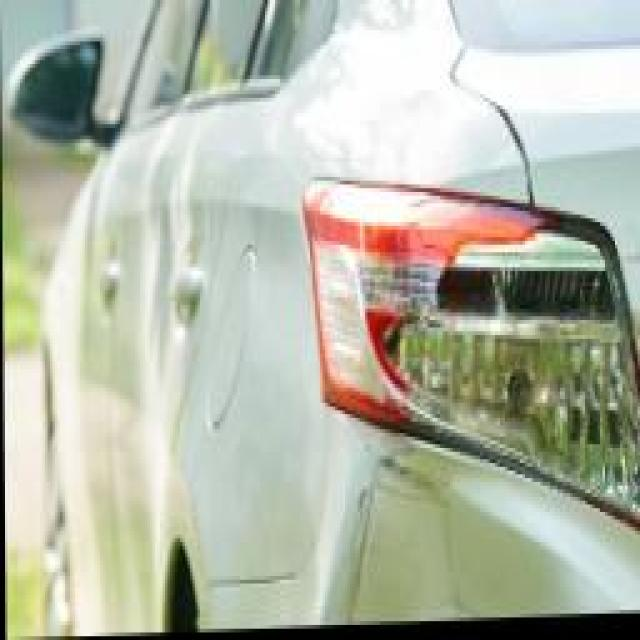Bumper: (320, 433, 489, 627)
Light: (305, 203, 627, 459)
